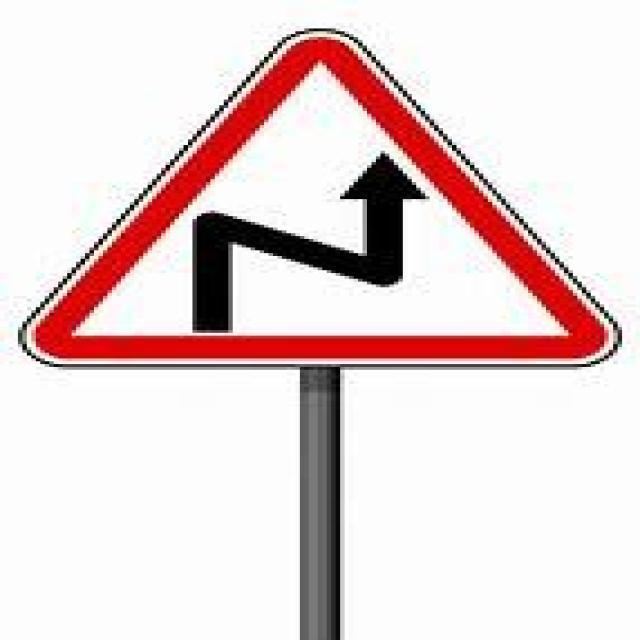right reverse bend: (20, 32, 615, 366)
